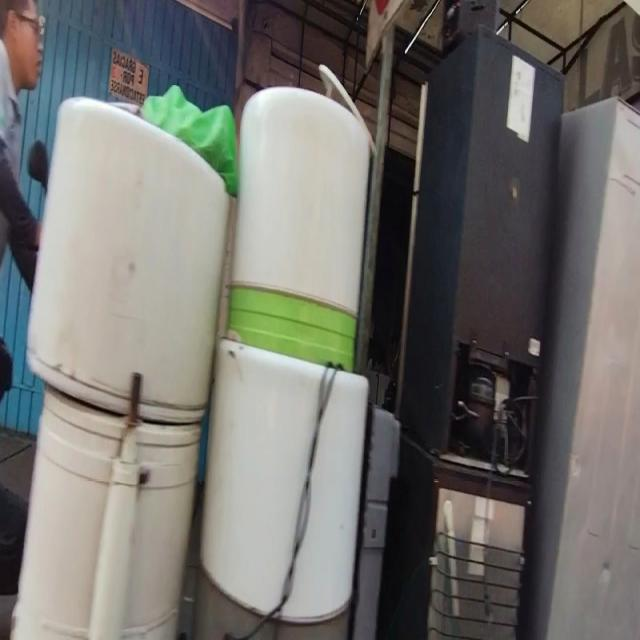adult: (0, 0, 45, 267)
